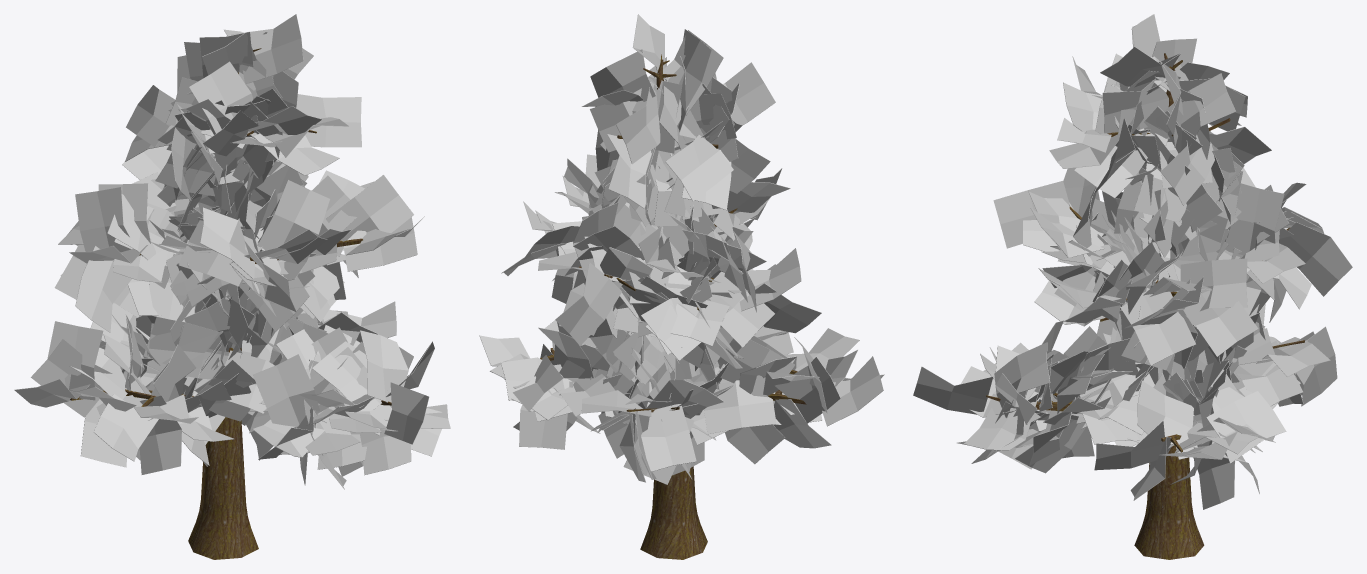
The model's file is Pine.fbx.
The picture shows the model from 3 angles, left to right: view 1: azimuth 30°, elevation 25°; view 2: azimuth 150°, elevation 25°; view 3: azimuth 270°, elevation 25°; orthographic projection. The views are drawn at different scales.
Visible parts, largest first — view 1: Pine; view 2: Pine; view 3: Pine.
Part boxes in pixels (left/top/right/bottom): Pine: left=14, top=14, right=450, bottom=559; Pine: left=479, top=14, right=884, bottom=559; Pine: left=913, top=14, right=1352, bottom=559.
Size of the model in its own units: 3.33 by 4.2 by 3.19.
